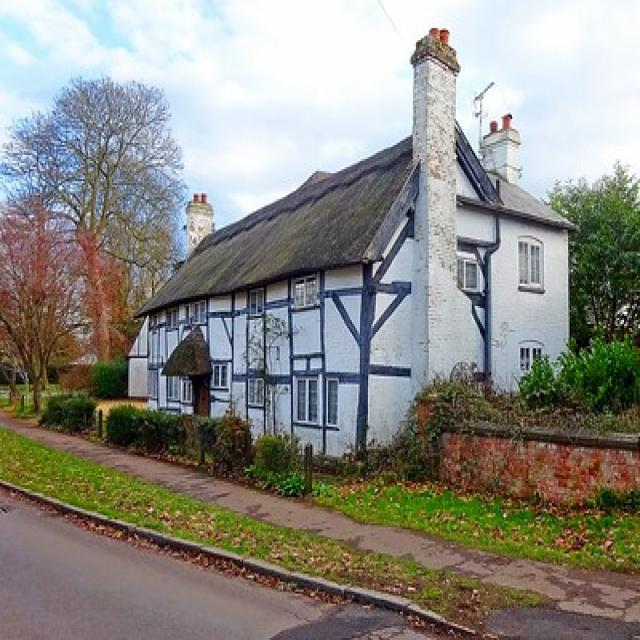building: (125, 23, 582, 472)
